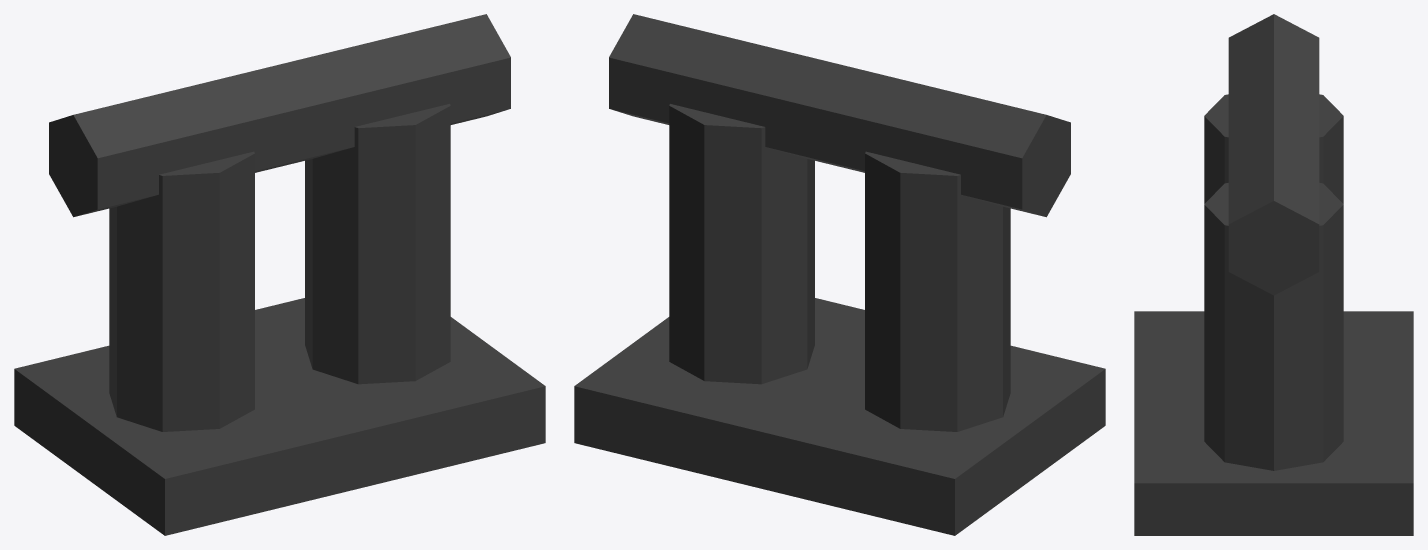
3 renders of one model, left to right at view 1: azimuth 30°, elevation 25°; view 2: azimuth 150°, elevation 25°; view 3: azimuth 270°, elevation 25°, orthographic. The views are drawn at different scales.
Visible parts, largest first — view 1: Foot, Crossbar, Post.001, Post; view 2: Foot, Crossbar, Post.001, Post; view 3: Foot, Post.001, Crossbar, Post.
Part boxes in pixels (left/top/right/bottom): Foot: left=14, top=298, right=545, bottom=535; Crossbar: left=49, top=14, right=510, bottom=217; Post.001: left=305, top=104, right=450, bottom=384; Post: left=109, top=151, right=254, bottom=431; Foot: left=574, top=298, right=1105, bottom=535; Crossbar: left=609, top=14, right=1070, bottom=217; Post.001: left=669, top=104, right=814, bottom=384; Post: left=865, top=151, right=1010, bottom=431; Foot: left=1134, top=311, right=1413, bottom=535; Post.001: left=1204, top=183, right=1343, bottom=470; Crossbar: left=1228, top=14, right=1319, bottom=295; Post: left=1204, top=94, right=1343, bottom=203.
Size of the model in its own units: 0.38 by 0.325 by 0.24.
1 material, 1 textured.
